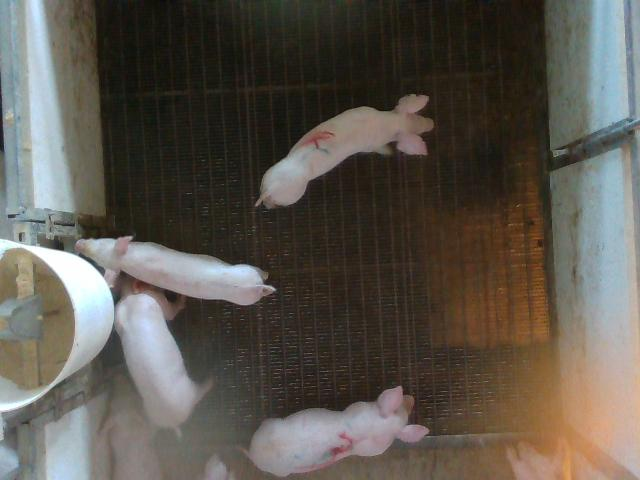pig-3: (244, 386, 429, 476)
pig-4: (256, 95, 434, 208)
